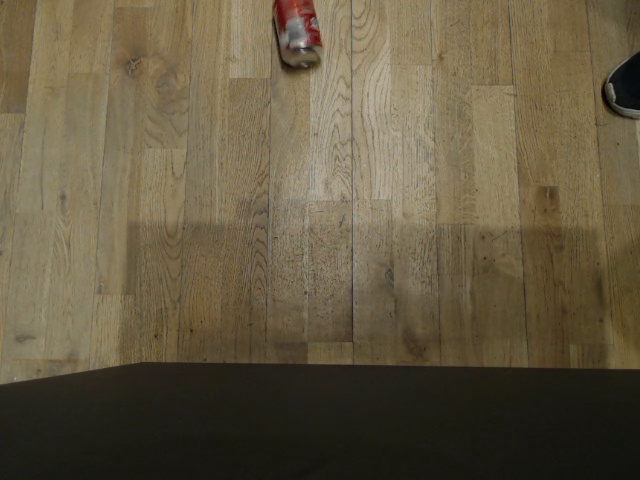cola: (268, 0, 326, 72)
